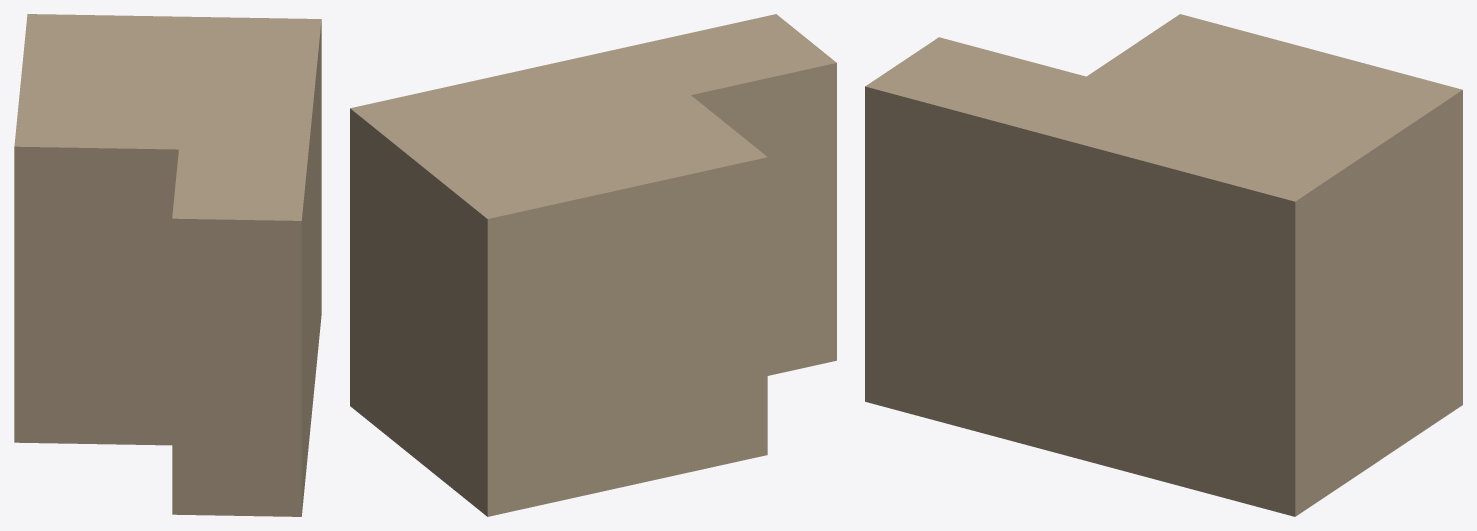
File: bld_100469775.dae
3 renders of one model, left to right at view 1: azimuth 30°, elevation 25°; view 2: azimuth 150°, elevation 25°; view 3: azimuth 270°, elevation 25°, orthographic. The views are drawn at different scales.
Parts seen in each view (by area): view 1: bld_100469775; view 2: bld_100469775; view 3: bld_100469775.
Boxes of the visible parts, left/top/right/bottom form: bld_100469775: left=14, top=14, right=321, bottom=516; bld_100469775: left=350, top=14, right=836, bottom=516; bld_100469775: left=865, top=14, right=1462, bottom=516.
Bounding box in the file's own units: 10.21 × 13.75 × 8.
